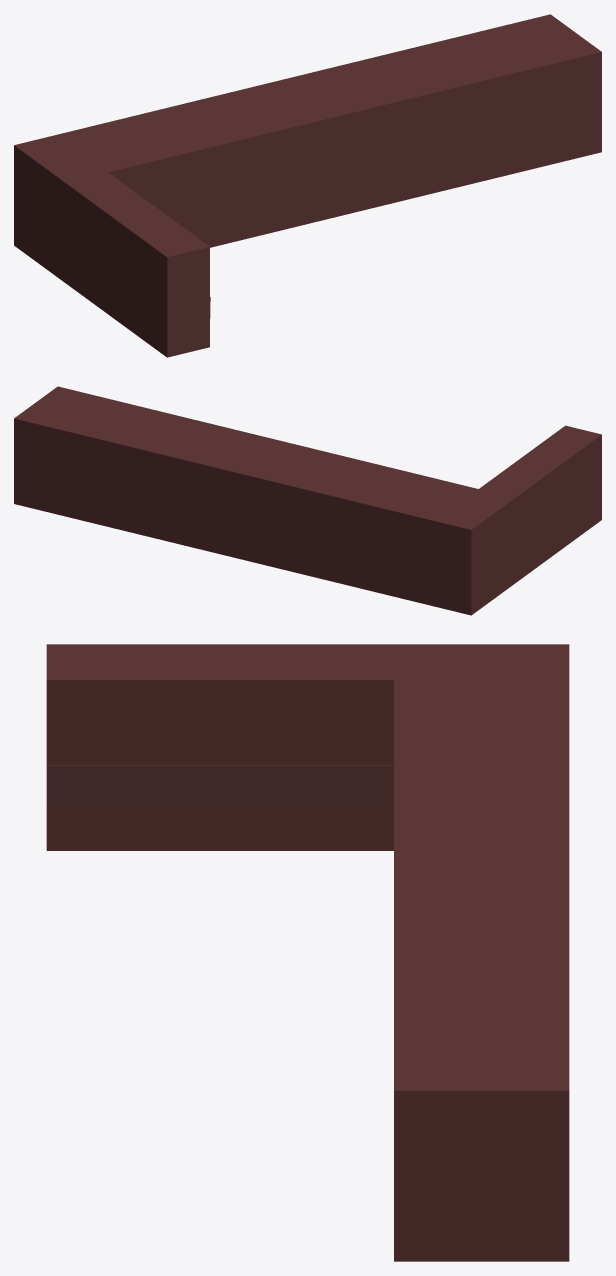
Rendered from Front_Desk.fbx.
The picture shows the model from 3 angles, top to bottom: view 1: azimuth 30°, elevation 25°; view 2: azimuth 150°, elevation 25°; view 3: azimuth 270°, elevation 25°; orthographic projection. The views are drawn at different scales.
Visible parts, largest first — view 1: pCube1; view 2: pCube1; view 3: pCube1.
Boxes of the visible parts, x1,y1,x2,y2 form: pCube1: [14, 14, 601, 357]; pCube1: [14, 386, 601, 615]; pCube1: [46, 644, 569, 1261].
Size of the model in its own units: 6 by 1.07 by 2.97.
